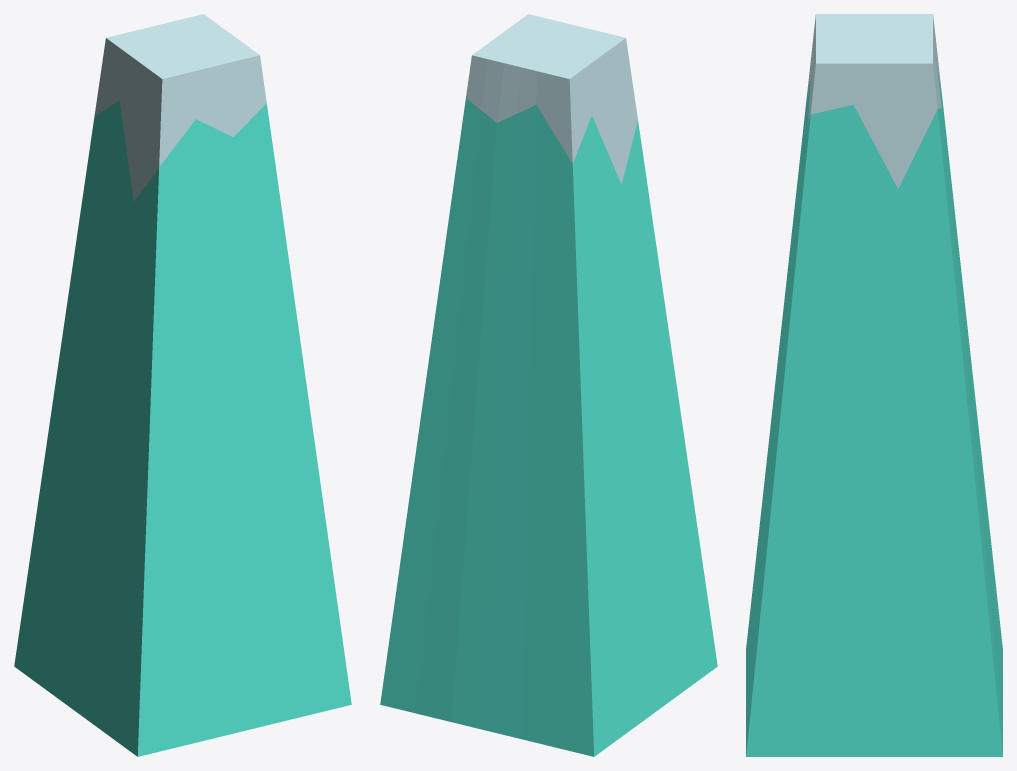
File: Mountain1.fbx
The picture shows the model from 3 angles, left to right: view 1: azimuth 30°, elevation 25°; view 2: azimuth 150°, elevation 25°; view 3: azimuth 270°, elevation 25°; orthographic projection. The views are drawn at different scales.
Visible parts, largest first — view 1: dağ; view 2: dağ; view 3: dağ.
Boxes of the visible parts, x1,y1,x2,y2 form: dağ: (14,14,351,756); dağ: (380,14,717,756); dağ: (746,14,1002,756).
Bounding box in the file's own units: 0.9033 × 2.58 × 0.9033.
